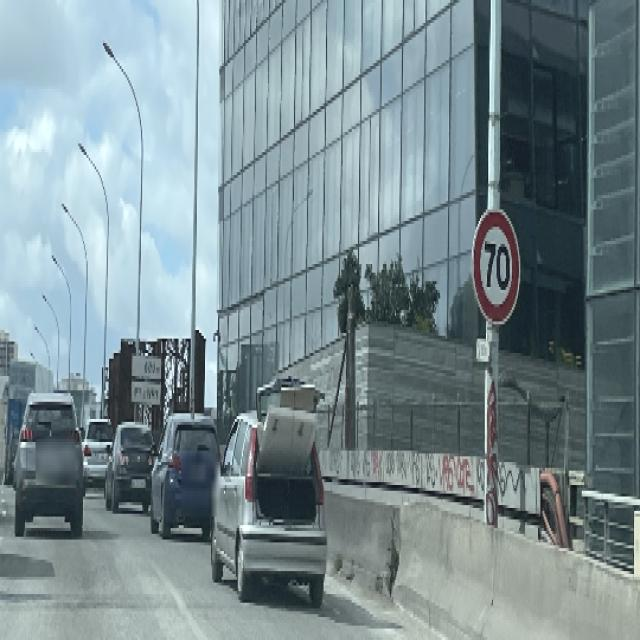speed_70: (471, 204, 521, 328)
